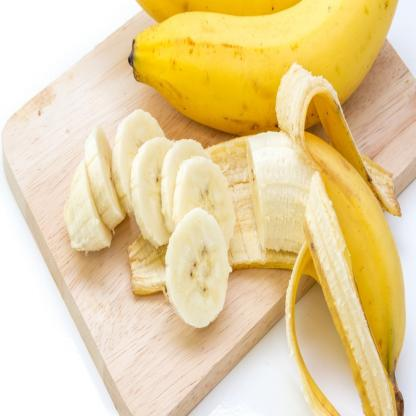banana: (145, 0, 407, 123)
